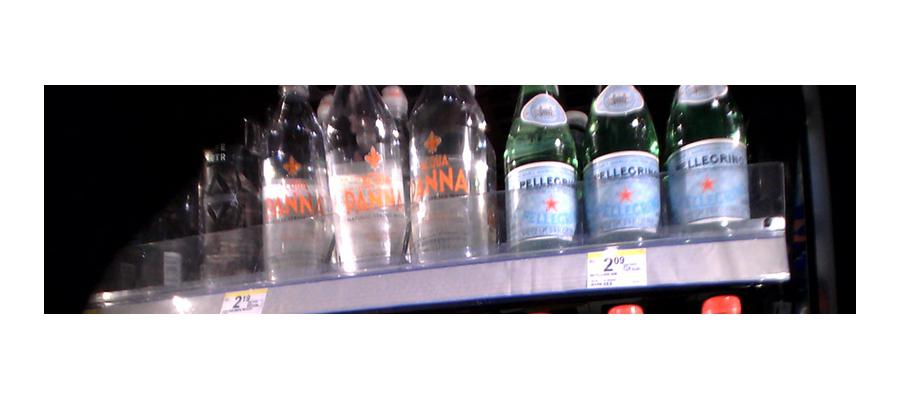bottle: (322, 79, 412, 274), (406, 82, 497, 262), (260, 85, 329, 280), (664, 80, 748, 234), (504, 89, 580, 256), (585, 85, 661, 244), (194, 118, 253, 278)
